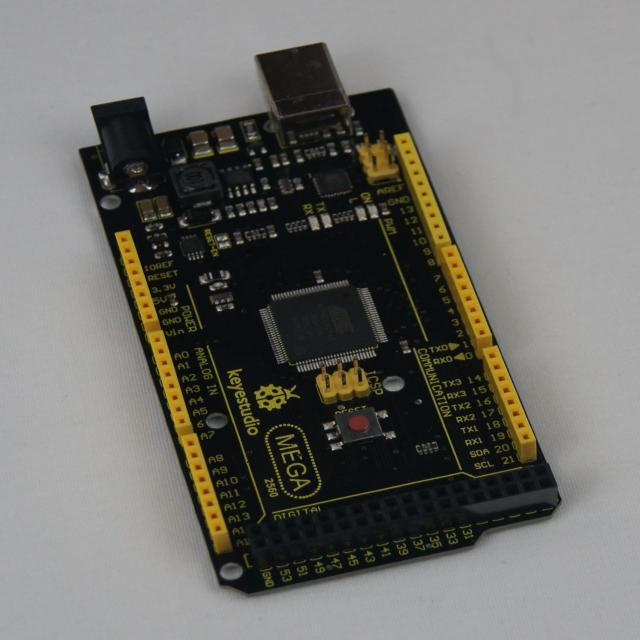Arduino Mega 2560 -Yellow-: (81, 44, 561, 594)
